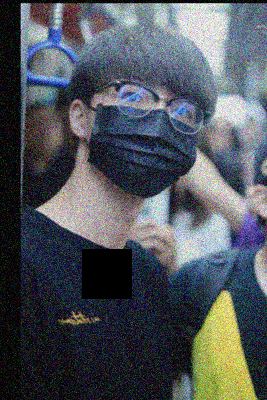with_mask: (81, 73, 199, 198)
